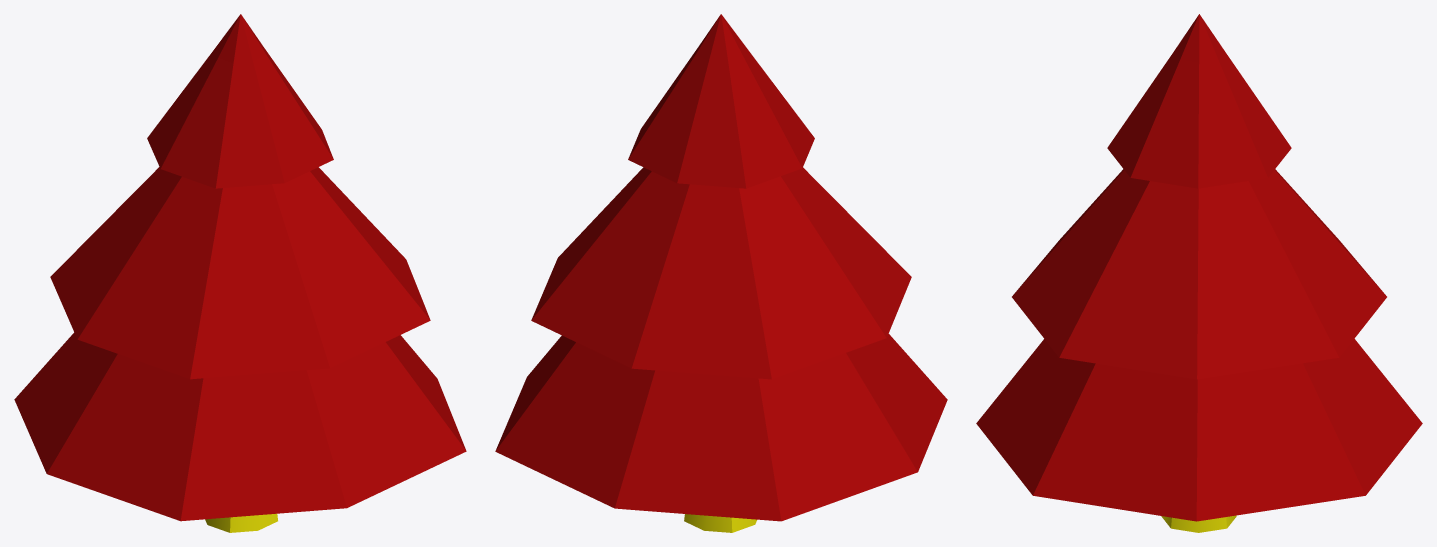
The model's file is Lowpoly Spruce.FBX.
3 renders of one model, left to right at view 1: azimuth 30°, elevation 25°; view 2: azimuth 150°, elevation 25°; view 3: azimuth 270°, elevation 25°, orthographic.
Visible parts, largest first — view 1: Box001; view 2: Box001; view 3: Box001.
Boxes of the visible parts, left/top/right/bottom form: Box001: left=14, top=14, right=466, bottom=532; Box001: left=495, top=14, right=947, bottom=532; Box001: left=976, top=14, right=1422, bottom=532.
Bounding box in the file's own units: 149 × 183 × 147.
